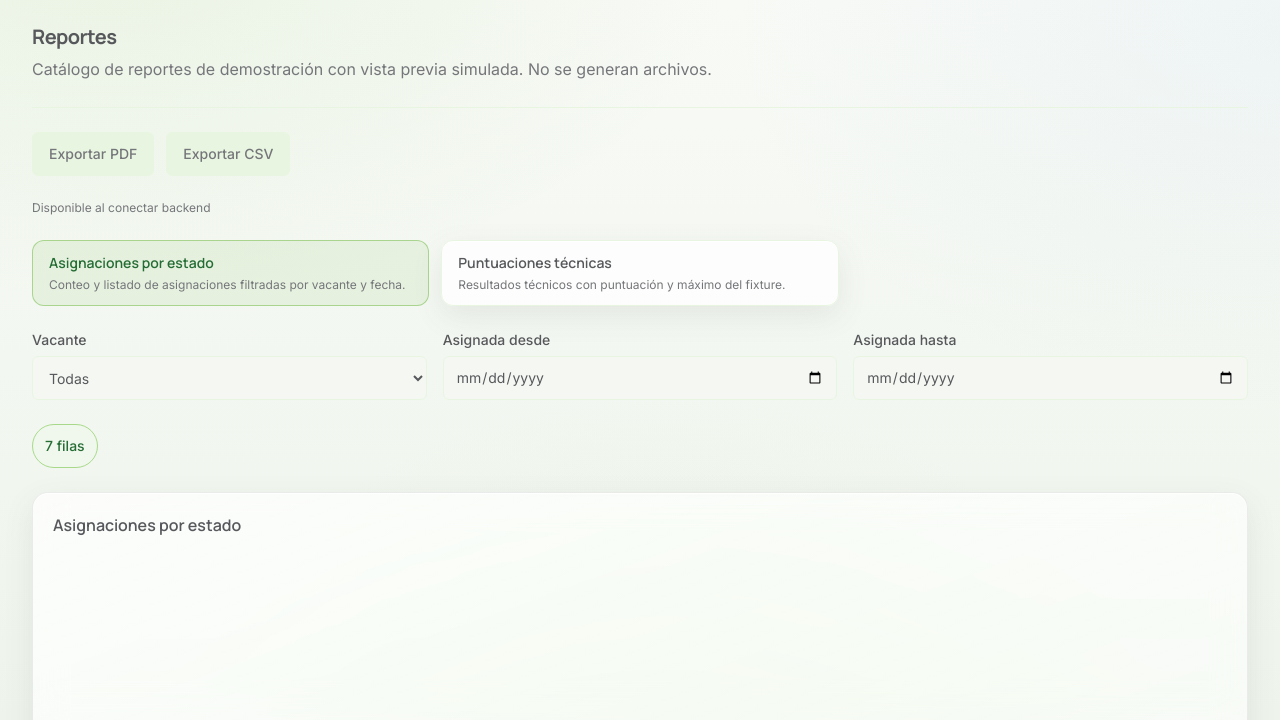
Test: PruebasReportsScreen UI › switches to technical scores with Diego 12/20
Click the option with test id "reports-catalog-technical-scores": {"x": 535, "y": 262} [441, 240, 839, 306]
(page scrolled)
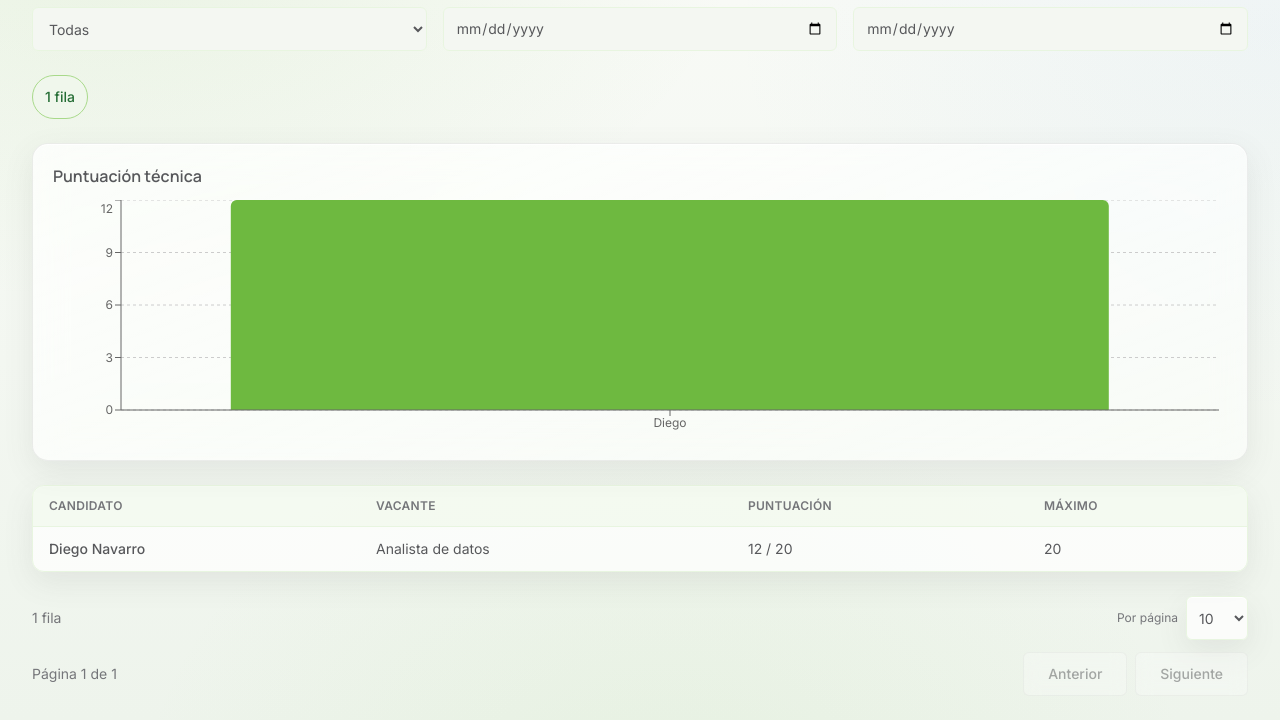
Now the element with test id "reports-chart-technical-scores" is shown, box [32, 143, 1248, 461]
Now the cell with test id "reports-technical-score" shows "12", box [748, 540, 792, 557]
Now the cell with test id "reports-technical-score" shows "20", box [748, 540, 792, 557]
